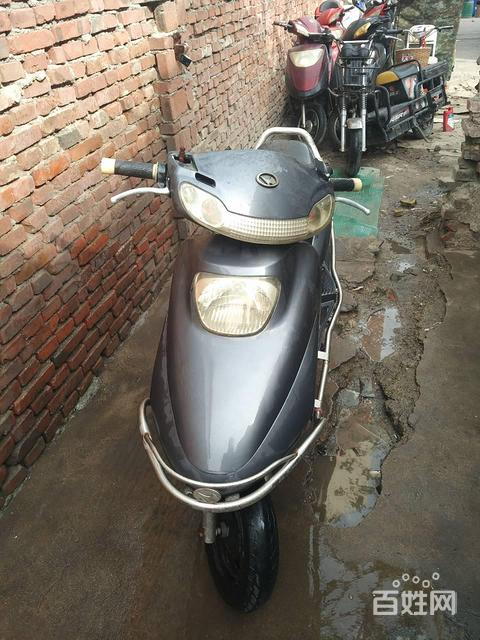电动车: (93, 117, 387, 622), (339, 17, 454, 161), (276, 10, 333, 135)
